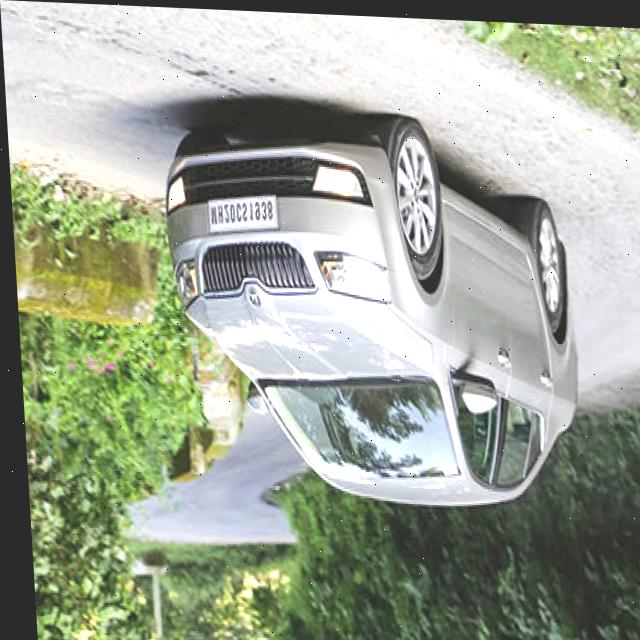plate: (204, 189, 277, 234)
